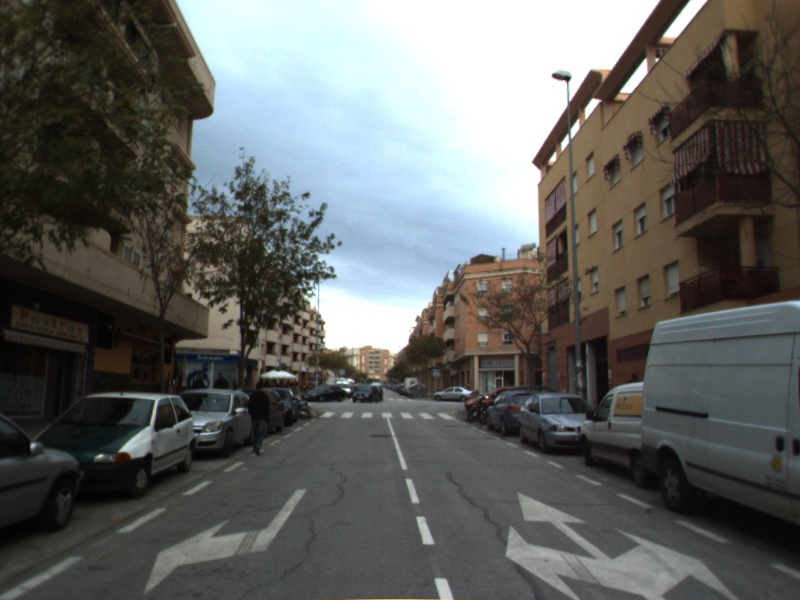STRAIGHT_LEFT_RIGHT: (503, 488, 742, 600)
